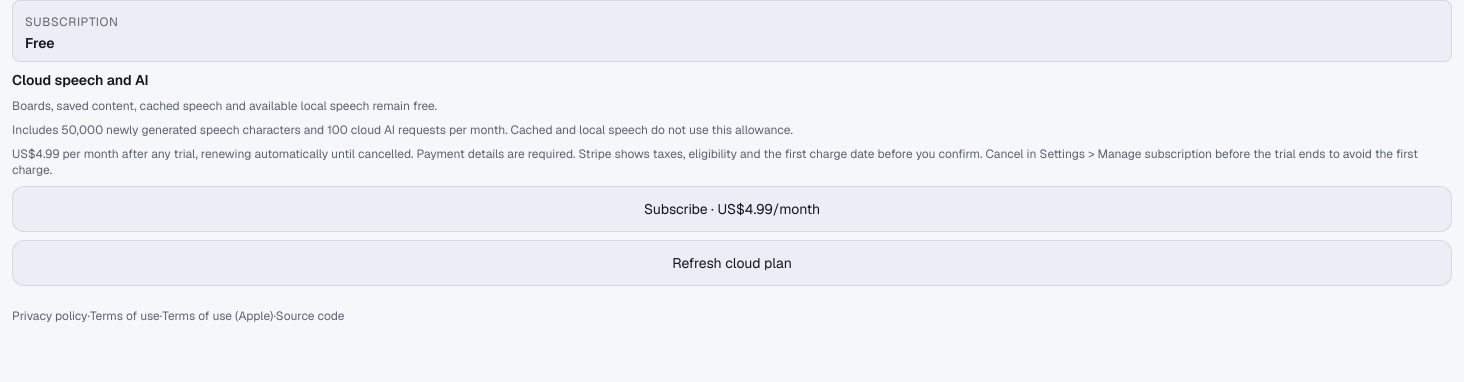
Test: cloud plan funnel telemetry › reports a failed purchase without hiding the error from the user
Click the button "Subscribe · US$4.99/month": (732, 209) [12,186,1452,232]
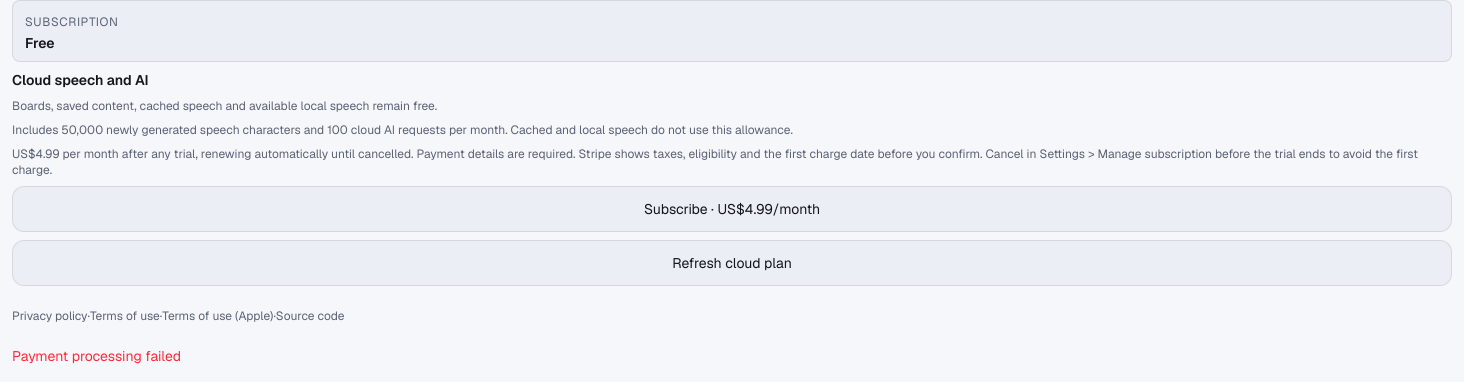
expect the text "Payment processing failed" is shown: met, box [12,347,181,365]
